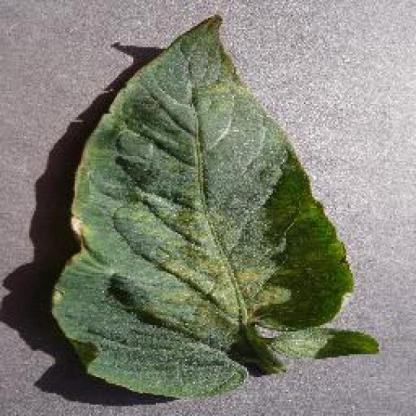Tomato_Spider_Mites: (55, 17, 382, 381)
